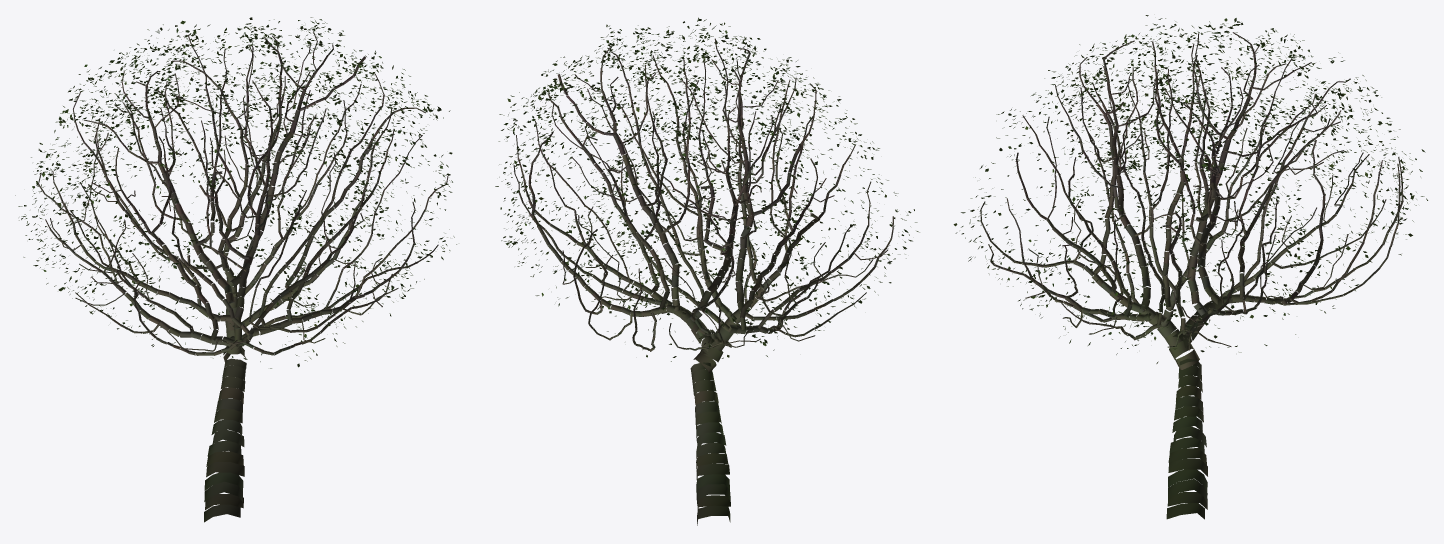
File: SM_Tree_hawthorn_0.glb
3 views of the same model, side by side, from view 1: azimuth 30°, elevation 25°; view 2: azimuth 150°, elevation 25°; view 3: azimuth 270°, elevation 25° (orthographic). The views are drawn at different scales.
Parts seen in each view (by area): view 1: SM_Tree_hawthorn_0; view 2: SM_Tree_hawthorn_0; view 3: SM_Tree_hawthorn_0.
Boxes of the visible parts, left/top/right/bottom form: SM_Tree_hawthorn_0: left=15, top=17, right=456, bottom=522; SM_Tree_hawthorn_0: left=495, top=17, right=919, bottom=525; SM_Tree_hawthorn_0: left=953, top=15, right=1427, bottom=519.
Bounding box in the file's own units: 4.94 × 5.97 × 5.07.
